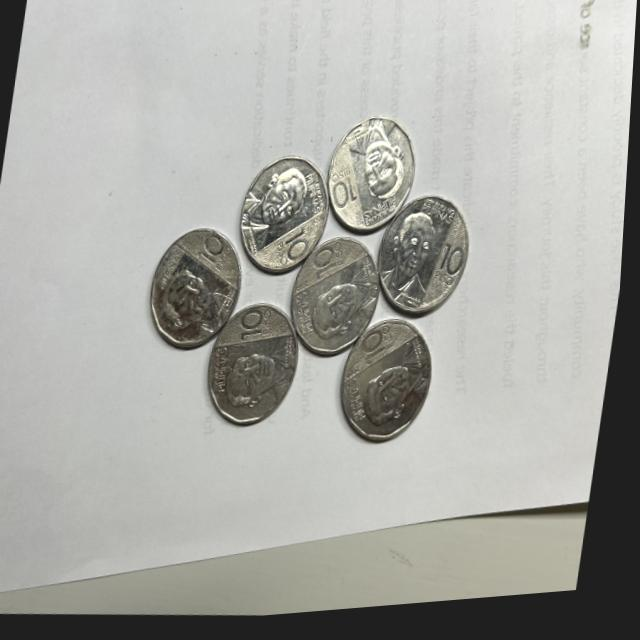10_New_Front: (235, 294, 289, 349), (303, 247, 351, 296), (432, 245, 475, 297), (278, 225, 325, 272), (360, 331, 400, 381), (326, 165, 361, 215), (194, 232, 232, 272)
